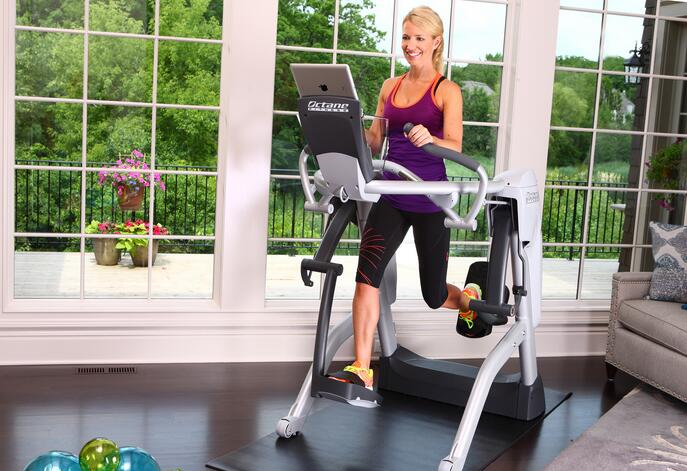gym_bike: (269, 73, 558, 469)
